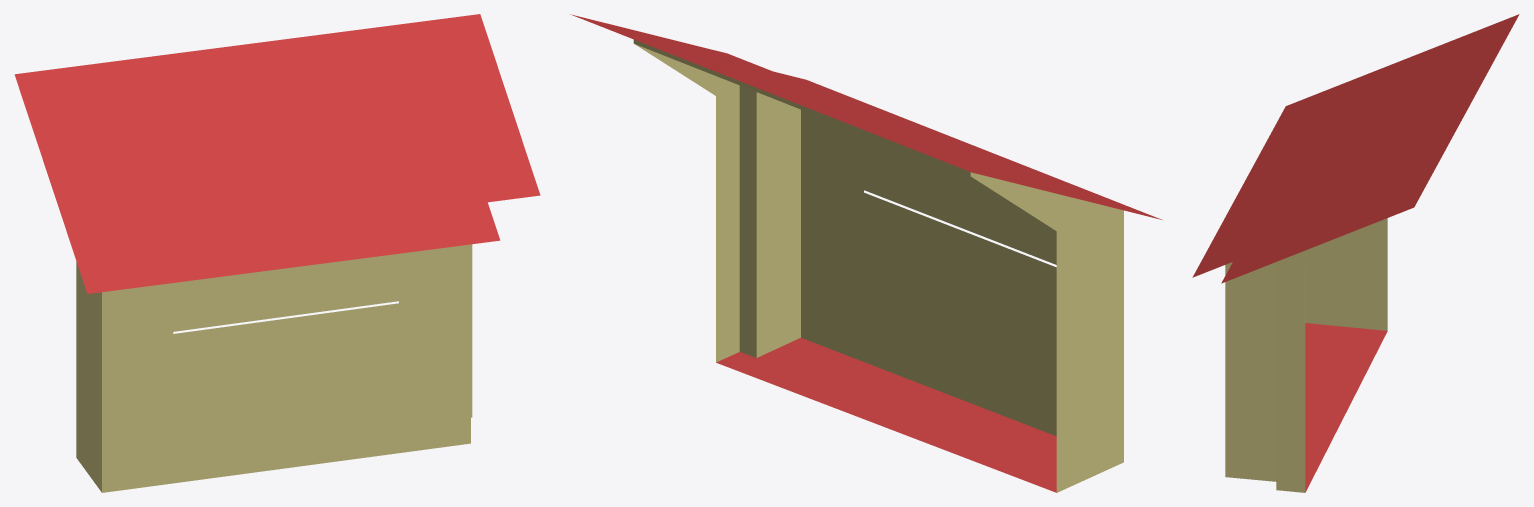
The picture shows the model from 3 angles, left to right: view 1: azimuth 30°, elevation 25°; view 2: azimuth 150°, elevation 25°; view 3: azimuth 270°, elevation 25°; orthographic projection. The views are drawn at different scales.
Bounding box in the file's own units: 22.95 × 14.68 × 15.83.
